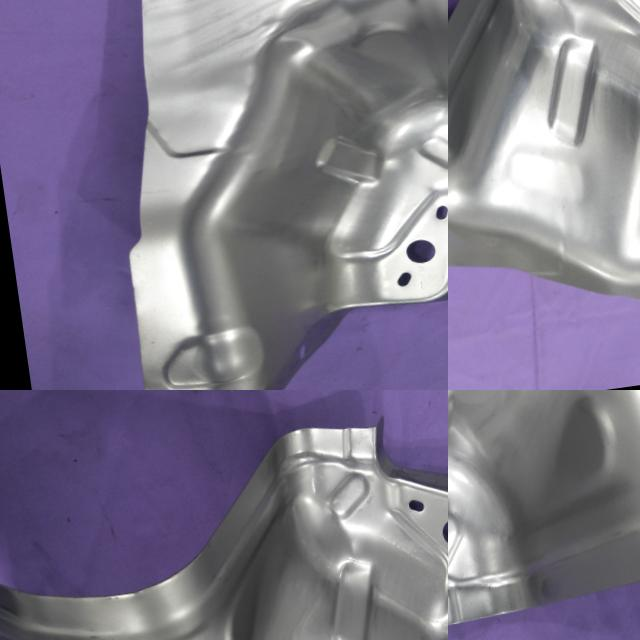Healthy: (66, 0, 448, 390), (0, 390, 448, 640), (448, 390, 640, 640)
